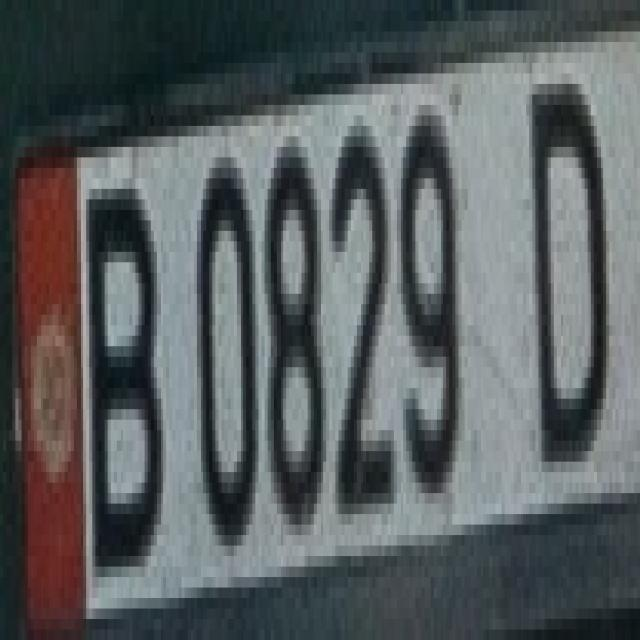0: (185, 125, 252, 546)
2: (326, 105, 394, 504)
8: (252, 126, 320, 524)
9: (388, 95, 458, 482)
B: (74, 158, 172, 566)
D: (510, 52, 616, 462)
